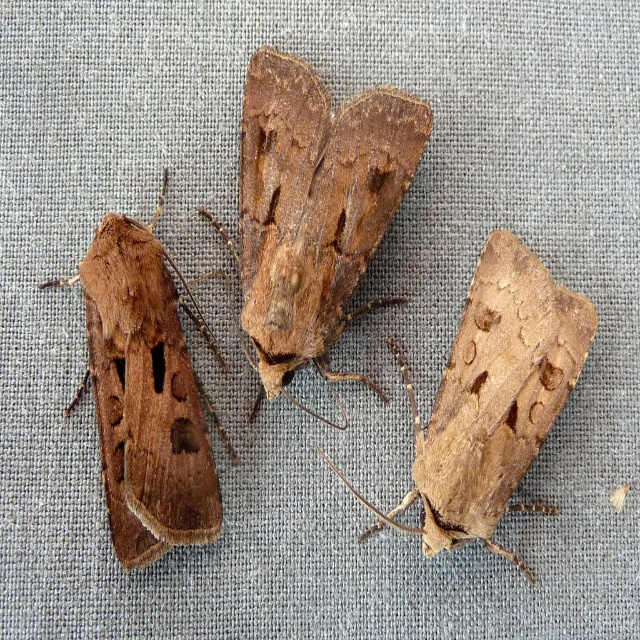Moths and butterflies: (319, 226, 602, 589), (197, 41, 436, 425), (42, 164, 242, 574)
